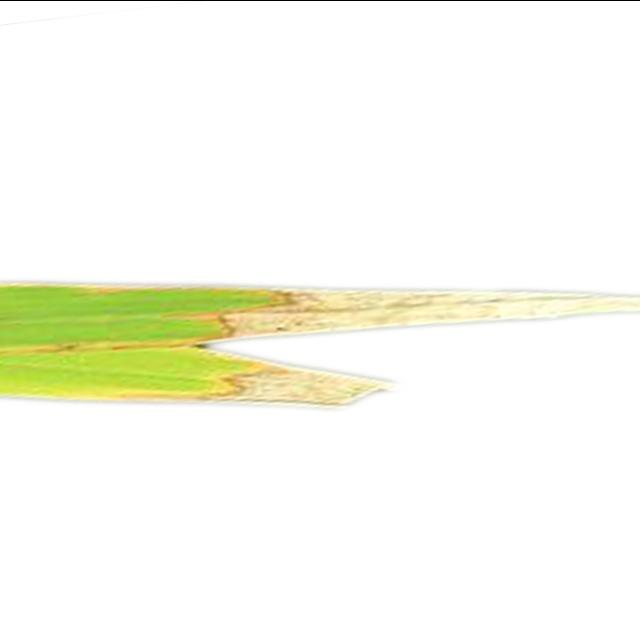Leaf scald: (0, 188, 640, 619)
